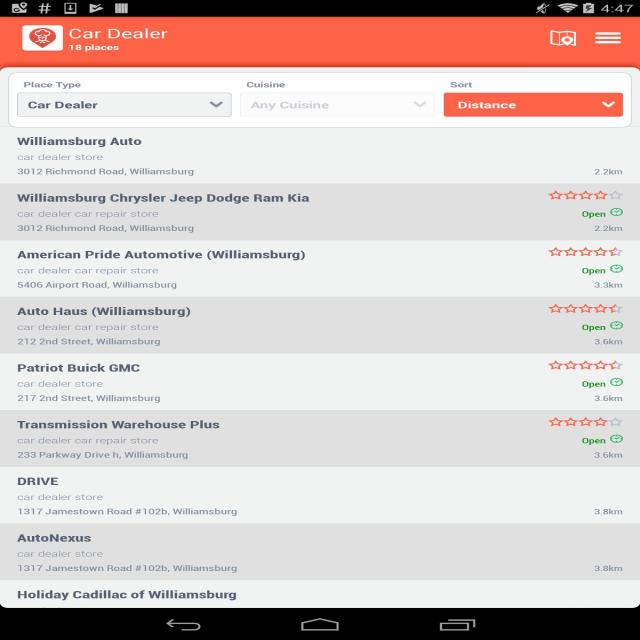button: (0, 183, 639, 240), (1, 410, 638, 467), (0, 353, 639, 409), (0, 127, 640, 182), (1, 297, 640, 352), (1, 468, 640, 523), (1, 242, 639, 296), (3, 526, 638, 580), (0, 580, 640, 608), (18, 93, 232, 116), (247, 92, 434, 115), (446, 93, 622, 117), (543, 27, 582, 50), (594, 30, 626, 46)
heading: (11, 246, 313, 263), (12, 190, 312, 205), (13, 587, 240, 604), (11, 416, 223, 434), (9, 302, 200, 320), (10, 360, 150, 376), (13, 132, 143, 148), (67, 26, 171, 42), (13, 530, 97, 545), (16, 475, 61, 486)
image: (542, 414, 625, 428), (545, 187, 627, 201), (542, 358, 630, 371), (545, 300, 625, 314), (541, 246, 632, 258), (21, 25, 64, 50)
label: (19, 80, 85, 89), (244, 81, 288, 89), (449, 81, 475, 89)
text: (14, 491, 240, 518), (15, 550, 241, 575), (13, 210, 198, 237), (13, 436, 191, 461), (14, 154, 199, 178), (14, 322, 166, 351), (12, 267, 180, 293), (11, 379, 166, 406), (67, 40, 128, 54)
